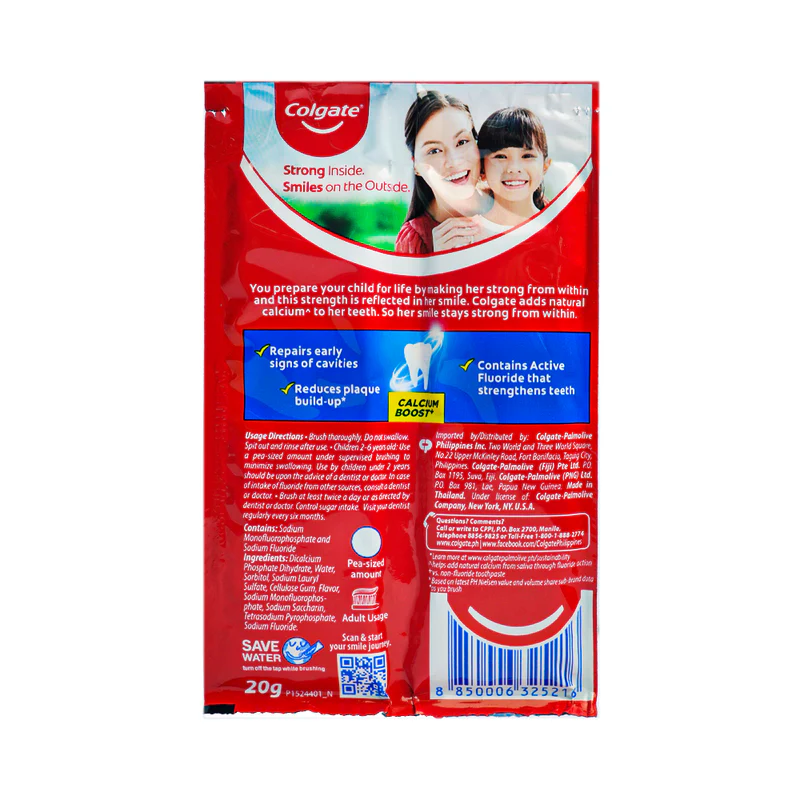toxic_waste: (206, 84, 602, 720)
